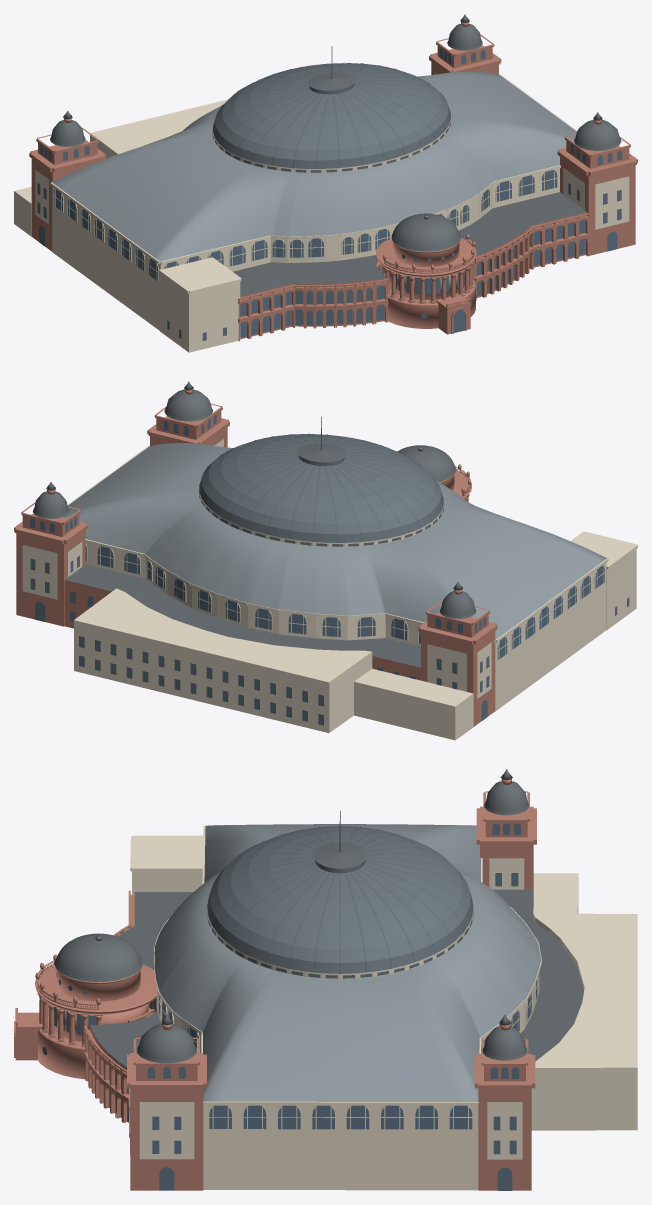
The model's file is frankfurt-festhalle.detail.glb.
3 views of the same model, one above another, from view 1: azimuth 30°, elevation 25°; view 2: azimuth 150°, elevation 25°; view 3: azimuth 270°, elevation 25° (orthographic). The views are drawn at different scales.
Parts seen in each view (by area): view 1: Festhalle; view 2: Festhalle; view 3: Festhalle.
Boxes of the visible parts, box(x1,y1,x2,y2) form: Festhalle: box(14, 14, 637, 352); Festhalle: box(14, 381, 637, 740); Festhalle: box(14, 769, 637, 1190).
Bounding box in the file's own units: 114 × 46.6 × 108.
